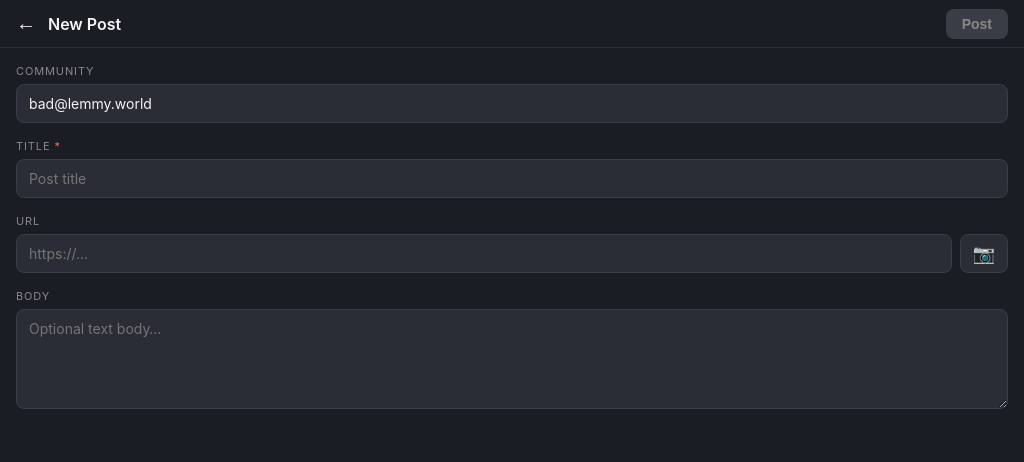
Test: CreatePostPage › shows error message when submit fails
Type "My post" into the field with placeholder "Post title" at coordinates (512, 178), box [16,159,1008,198]
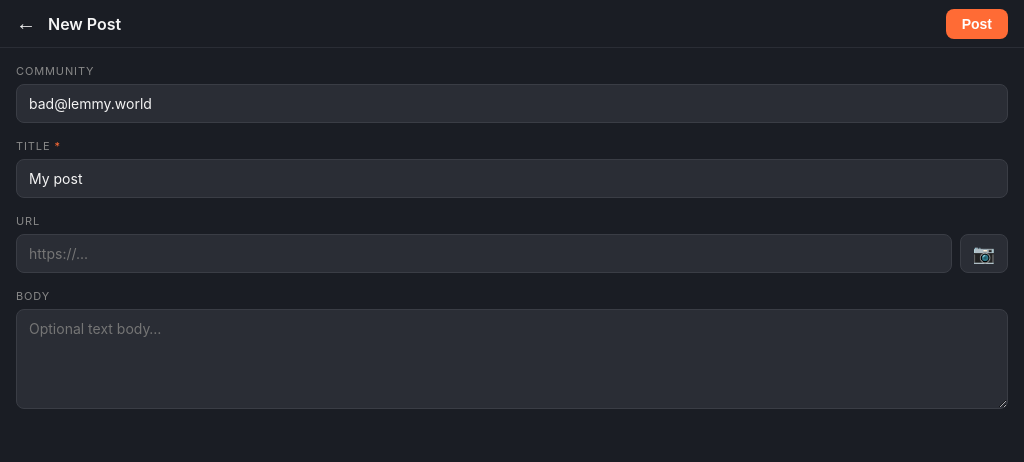
Click the button "Post" at coordinates (977, 24), box [946,8,1008,38]
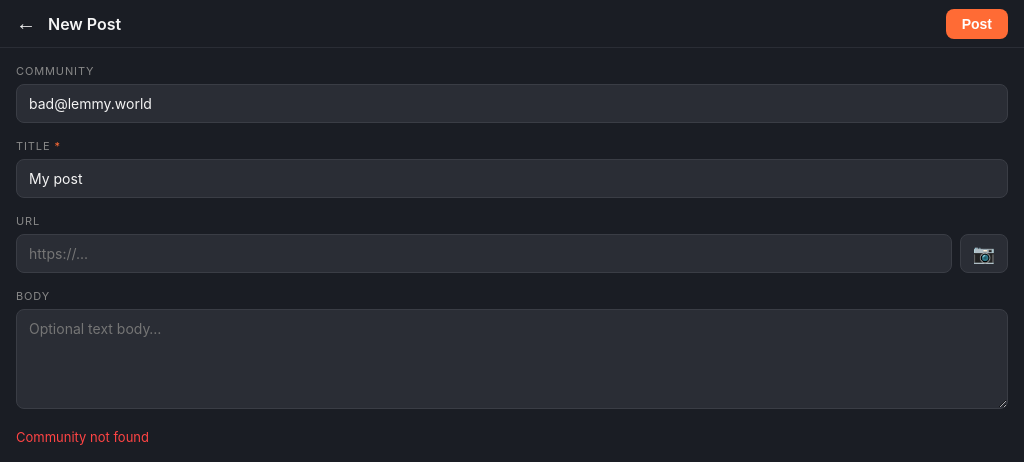
Expected: the text "Community not found" is shown, [16,429,149,445]
